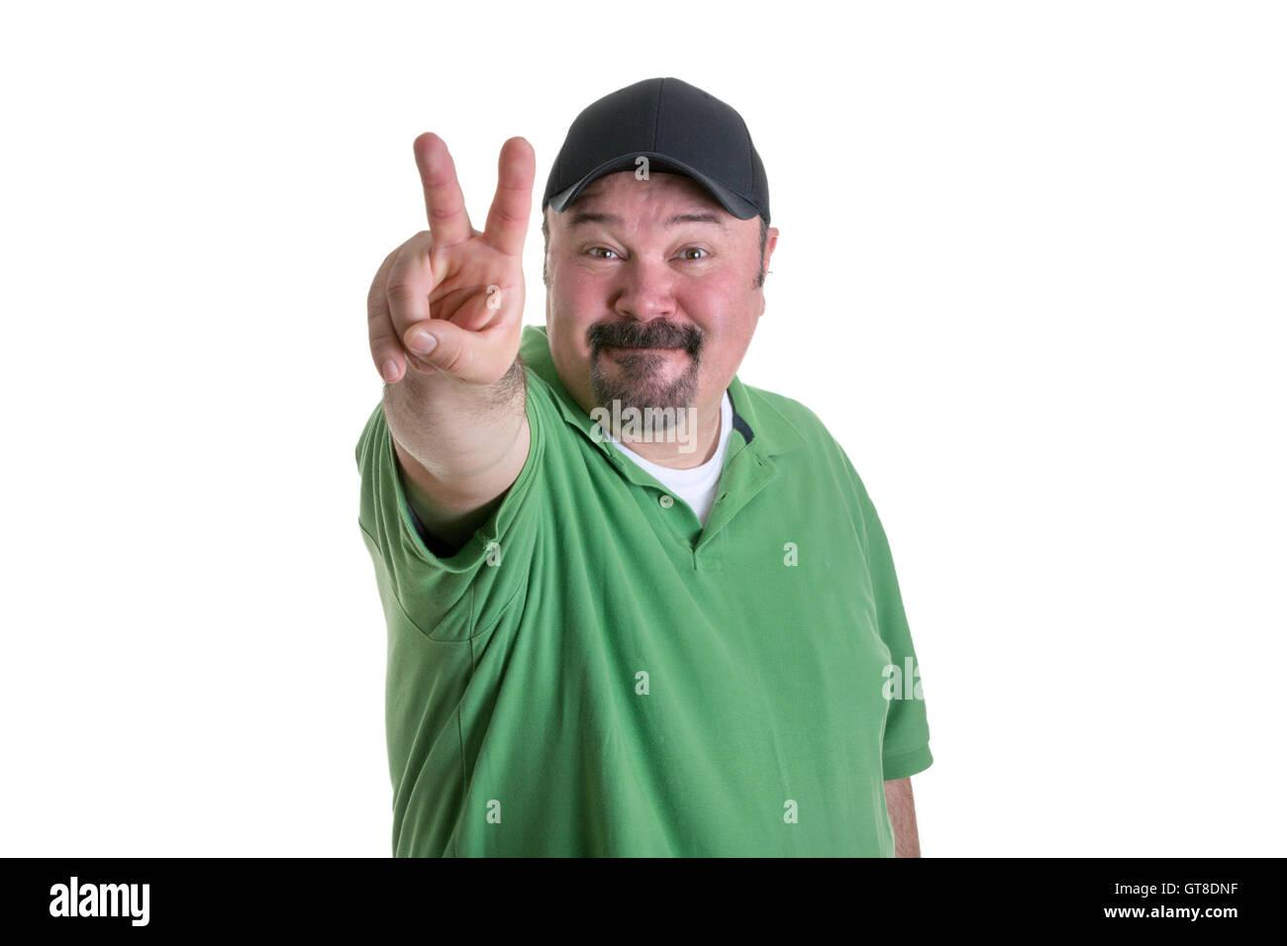peace_sign: (350, 108, 542, 401)
